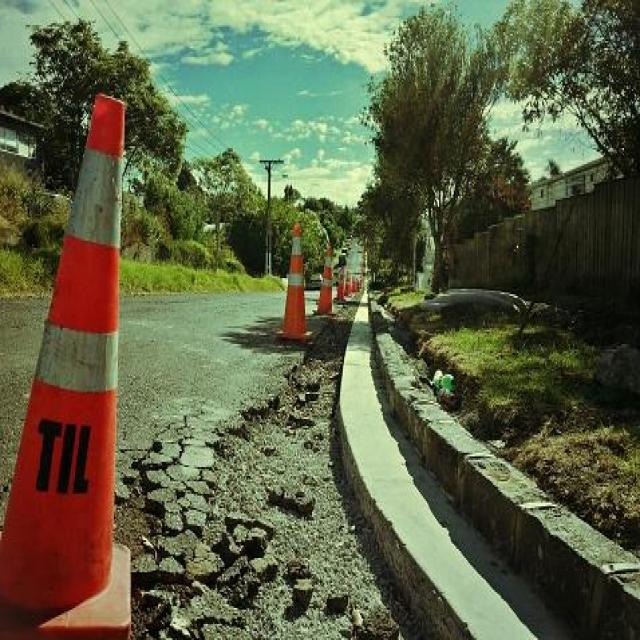Cone: (13, 91, 130, 631), (282, 219, 314, 344), (320, 244, 337, 319), (338, 264, 344, 303), (346, 267, 352, 298)
